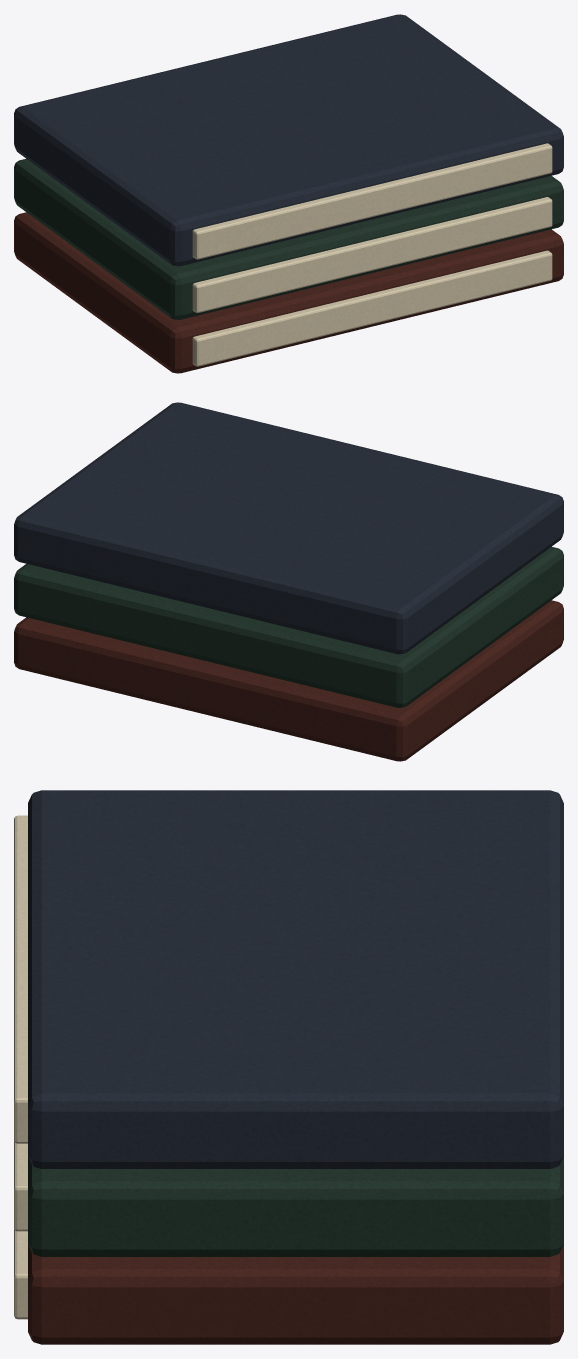
File: feature_book.glb
3 renders of one model, top to bottom at view 1: azimuth 30°, elevation 25°; view 2: azimuth 150°, elevation 25°; view 3: azimuth 270°, elevation 25°, orthographic. The views are drawn at different scales.
Parts seen in each view (by area): view 1: SM_University_Library_feature_book; view 2: SM_University_Library_feature_book; view 3: SM_University_Library_feature_book.
Boxes of the visible parts, x1,y1,x2,y2 form: SM_University_Library_feature_book: (14,14,563,373); SM_University_Library_feature_book: (14,402,563,761); SM_University_Library_feature_book: (14,790,563,1344).
Bounding box in the file's own units: 0.43 × 0.16 × 0.318.
4 materials, 4 textured.
